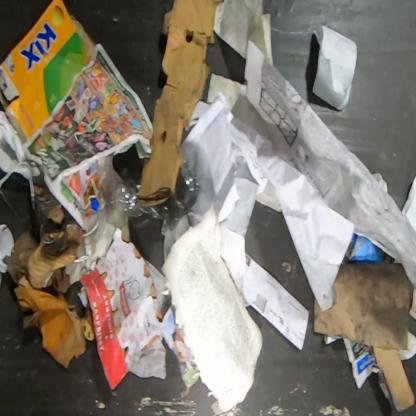cardboard: (138, 0, 222, 208), (78, 224, 168, 392), (314, 261, 413, 409), (0, 0, 98, 144), (2, 173, 84, 294), (13, 284, 94, 370)
rigid_plastic: (91, 169, 197, 228)
